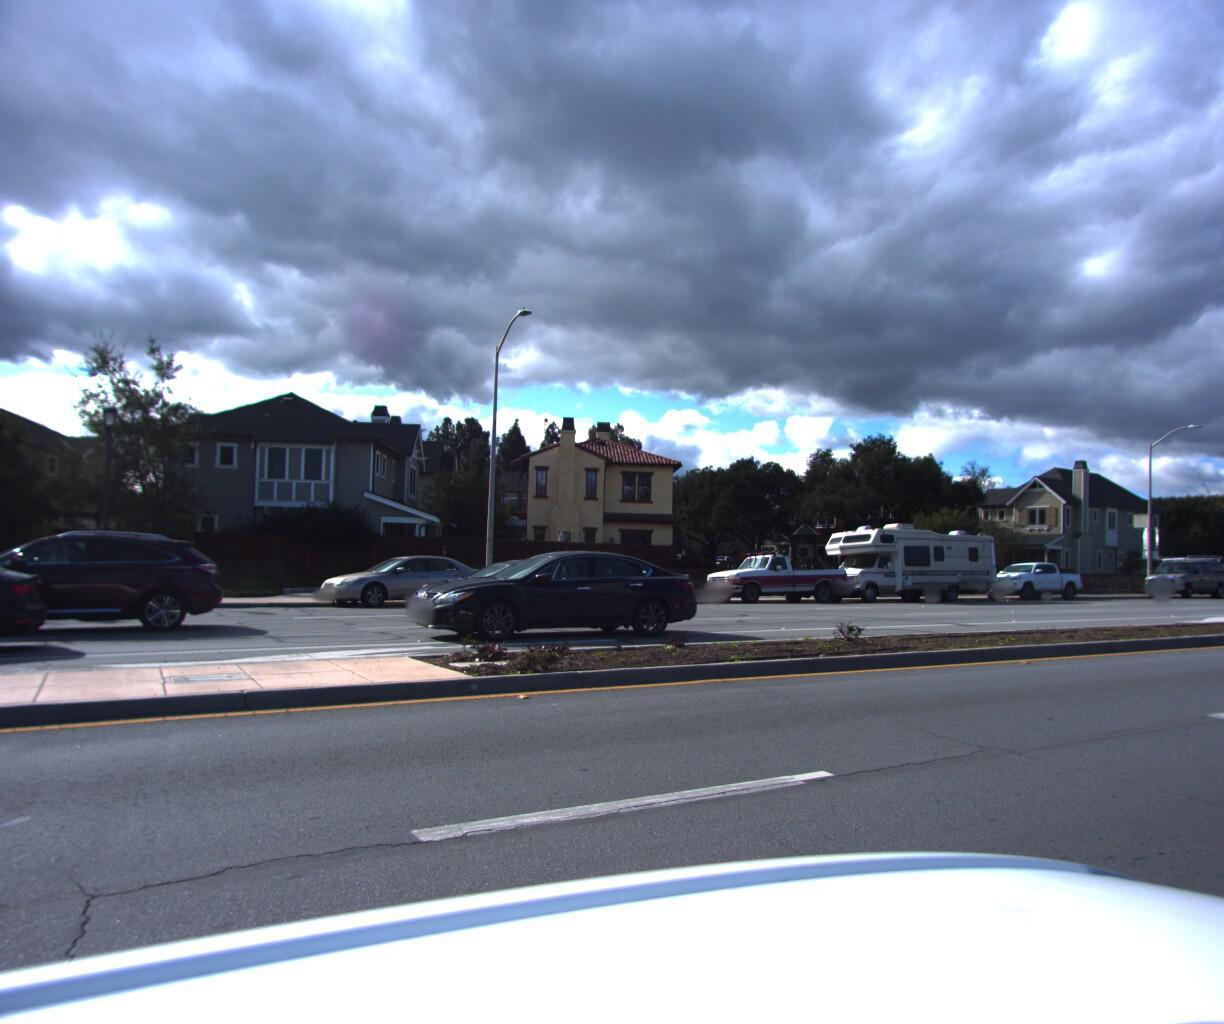car: (403, 542, 709, 638), (400, 546, 606, 618), (305, 549, 501, 604), (696, 546, 852, 601), (971, 553, 1085, 599), (1133, 548, 1224, 592), (1199, 552, 1224, 596)
other_vehicle: (811, 510, 1000, 601)
